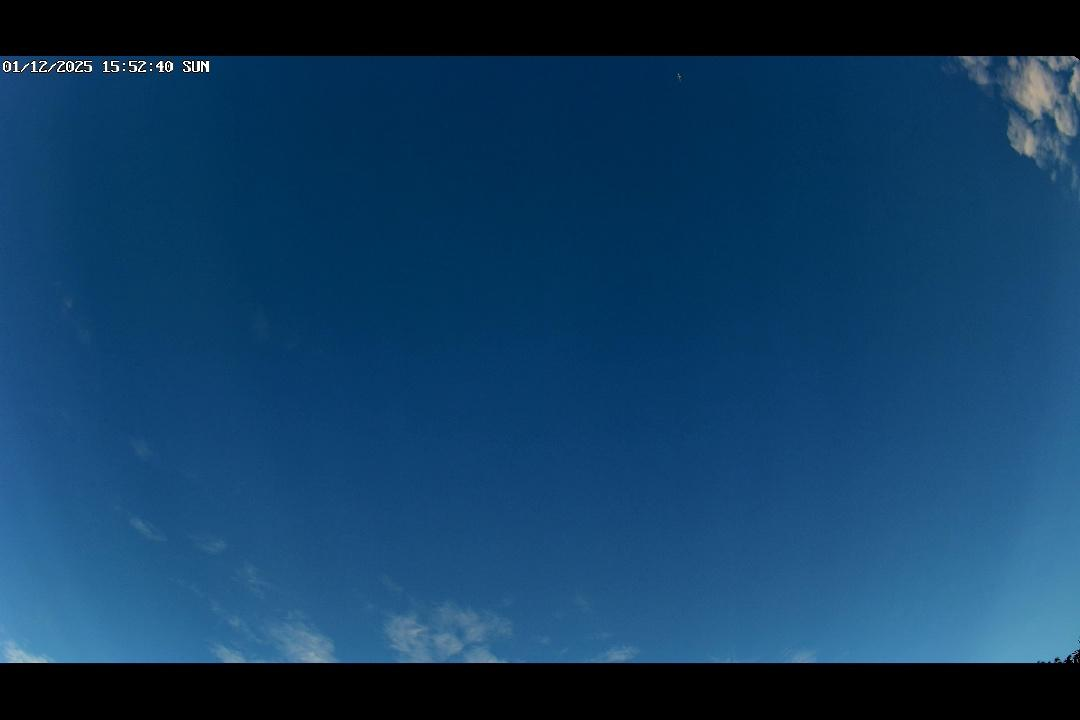Plane: (671, 68, 688, 83)
